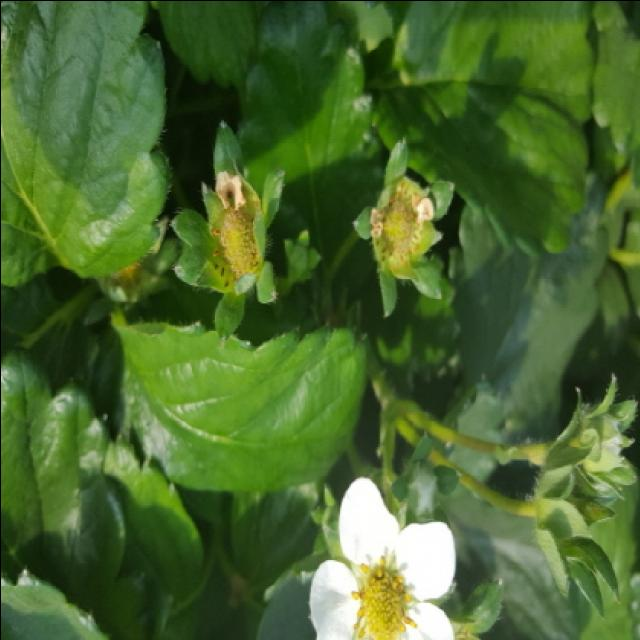Blossom Blight: (208, 191, 259, 283), (372, 183, 423, 265)
